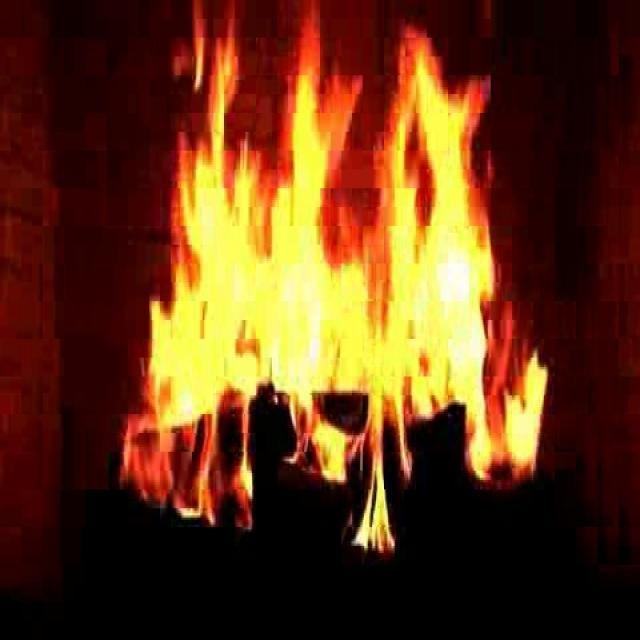Fire: (144, 40, 533, 526)
